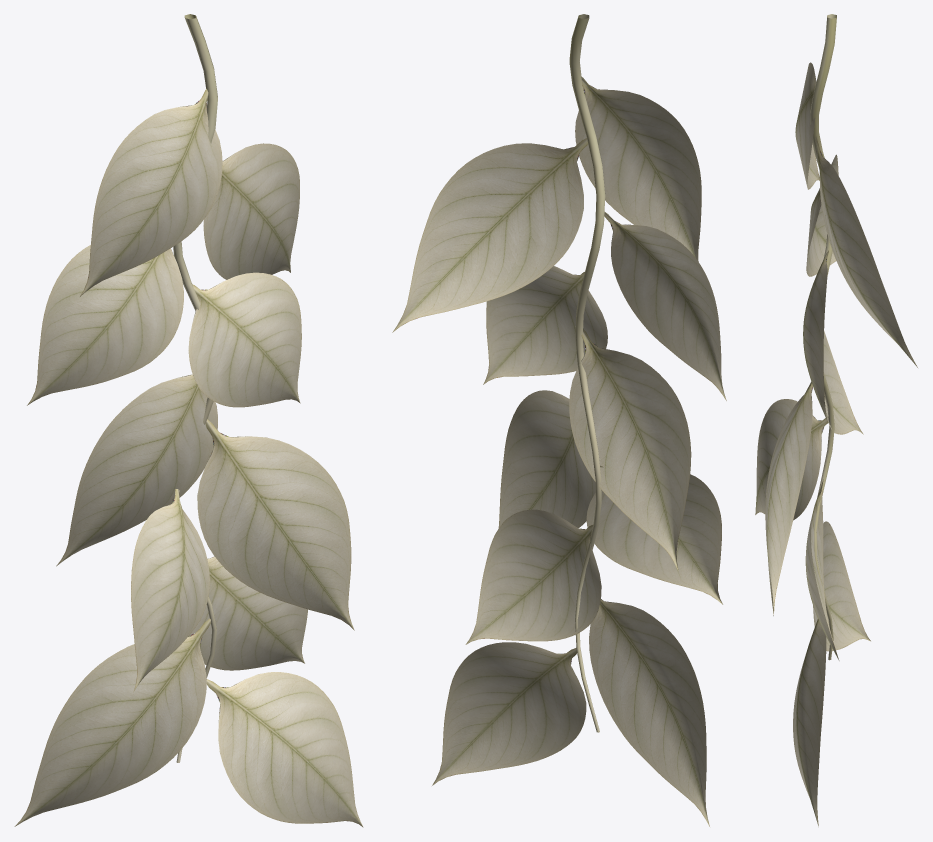
The model's file is hollow-foliage.glb.
3 views of the same model, side by side, from view 1: azimuth 30°, elevation 25°; view 2: azimuth 150°, elevation 25°; view 3: azimuth 270°, elevation 25° (orthographic). The views are drawn at different scales.
Parts seen in each view (by area): view 1: CreamLeaf_05, CreamLeaf_08, CreamLeaf_09, CreamLeaf_00, CreamLeaf_04, CreamLeaf_02, CreamLeaf_03, CreamLeaf_01, CreamLeaf_06, CreamLeaf_07, HangingStem; view 2: CreamLeaf_01, CreamLeaf_04, CreamLeaf_09, CreamLeaf_08, CreamLeaf_07, CreamLeaf_00, CreamLeaf_02, CreamLeaf_03, CreamLeaf_05, CreamLeaf_06, HangingStem; view 3: CreamLeaf_01, CreamLeaf_05, CreamLeaf_09, CreamLeaf_06, CreamLeaf_08, HangingStem, CreamLeaf_03, CreamLeaf_07, CreamLeaf_00, CreamLeaf_04, CreamLeaf_02.
Part boxes in pixels (bbox=[...]): CreamLeaf_05: bbox=[197, 419, 354, 630]; CreamLeaf_08: bbox=[14, 618, 210, 826]; CreamLeaf_09: bbox=[206, 672, 363, 827]; CreamLeaf_00: bbox=[80, 88, 222, 296]; CreamLeaf_04: bbox=[56, 374, 217, 566]; CreamLeaf_02: bbox=[27, 245, 183, 405]; CreamLeaf_03: bbox=[188, 272, 301, 407]; CreamLeaf_01: bbox=[203, 143, 299, 279]; CreamLeaf_06: bbox=[131, 489, 209, 692]; CreamLeaf_07: bbox=[188, 556, 307, 670]; HangingStem: bbox=[172, 14, 217, 762]; CreamLeaf_01: bbox=[392, 138, 588, 332]; CreamLeaf_04: bbox=[569, 329, 691, 570]; CreamLeaf_09: bbox=[432, 642, 586, 785]; CreamLeaf_08: bbox=[589, 599, 709, 826]; CreamLeaf_07: bbox=[465, 509, 601, 644]; CreamLeaf_00: bbox=[575, 76, 701, 261]; CreamLeaf_02: bbox=[604, 212, 726, 400]; CreamLeaf_03: bbox=[483, 266, 607, 384]; CreamLeaf_05: bbox=[498, 390, 595, 527]; CreamLeaf_06: bbox=[586, 465, 722, 604]; HangingStem: bbox=[569, 14, 605, 732]; CreamLeaf_01: bbox=[815, 136, 917, 367]; CreamLeaf_05: bbox=[765, 381, 812, 615]; CreamLeaf_09: bbox=[793, 619, 826, 826]; CreamLeaf_06: bbox=[755, 399, 828, 520]; CreamLeaf_08: bbox=[813, 521, 870, 651]; HangingStem: bbox=[810, 14, 836, 660]; CreamLeaf_03: bbox=[803, 250, 828, 421]; CreamLeaf_07: bbox=[805, 479, 839, 660]; CreamLeaf_00: bbox=[795, 62, 819, 189]; CreamLeaf_04: bbox=[823, 331, 863, 434]; CreamLeaf_02: bbox=[806, 154, 838, 276].
Size of the model in its own units: 1.27 by 3.2 by 0.6388.
2 materials, 2 textured.
